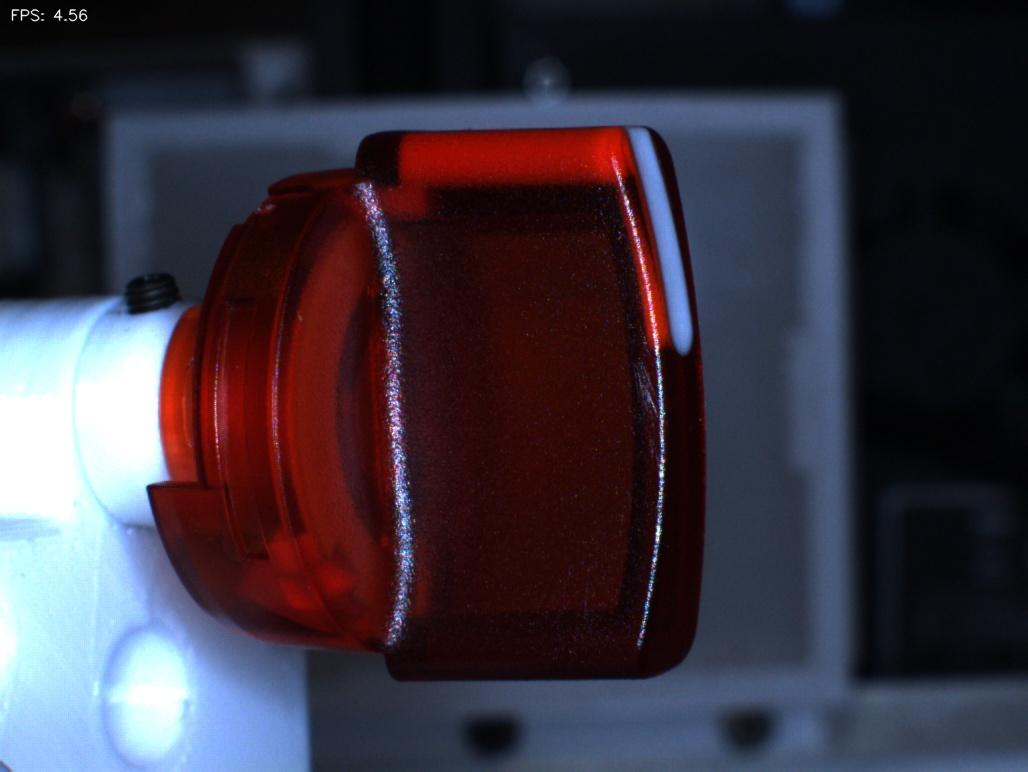Givrage: (613, 332, 668, 444)
